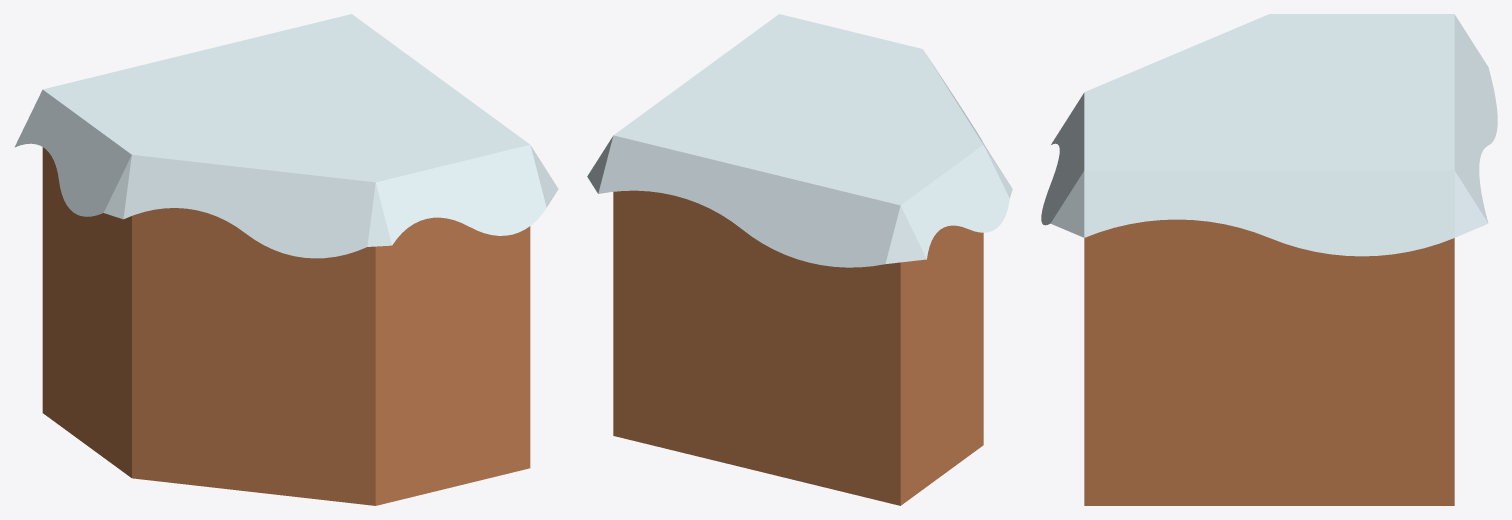
Rendered from blockSnowCornerSmall.fbx.
3 views of the same model, side by side, from view 1: azimuth 30°, elevation 25°; view 2: azimuth 150°, elevation 25°; view 3: azimuth 270°, elevation 25° (orthographic). The views are drawn at different scales.
Visible parts, largest first — view 1: blockSnowCornerSmall; view 2: blockSnowCornerSmall; view 3: blockSnowCornerSmall.
Part boxes in pixels (x1=…): blockSnowCornerSmall: x1=14, y1=14, x2=558, y2=505; blockSnowCornerSmall: x1=587, y1=14, x2=1012, y2=505; blockSnowCornerSmall: x1=1041, y1=14, x2=1497, y2=505.
Size of the model in its own units: 12.33 by 10 by 12.33.
